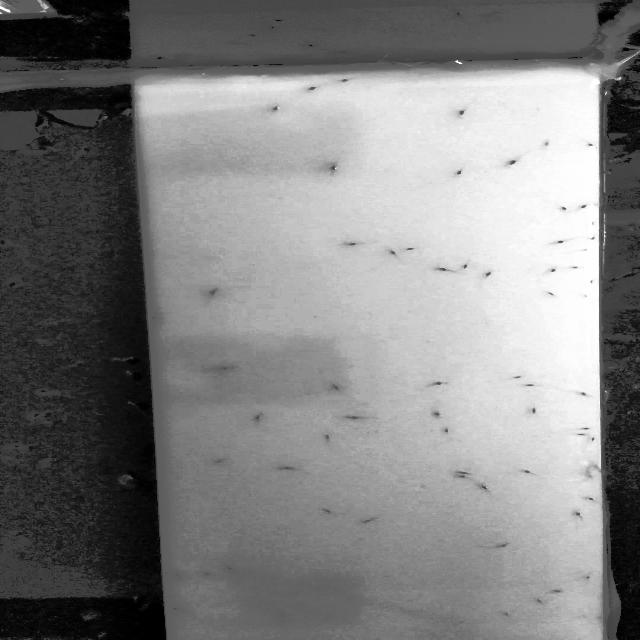shrimp: (505, 147, 536, 167), (531, 133, 559, 150), (446, 162, 474, 177), (361, 512, 395, 524), (330, 75, 374, 84), (546, 236, 576, 248), (204, 364, 248, 372), (538, 287, 566, 299), (337, 414, 377, 422), (338, 240, 376, 248), (445, 105, 472, 116), (451, 258, 475, 270), (528, 596, 548, 610), (432, 264, 460, 274), (323, 161, 343, 175), (576, 492, 606, 501), (416, 380, 446, 389), (539, 264, 558, 278), (566, 508, 587, 520), (569, 389, 597, 398), (479, 267, 500, 279), (444, 467, 473, 475), (316, 506, 339, 516), (545, 585, 565, 596), (280, 465, 304, 474), (574, 243, 595, 253), (516, 467, 541, 475), (571, 203, 593, 212), (488, 542, 516, 549), (384, 249, 403, 259), (499, 612, 522, 620), (205, 288, 228, 296), (318, 434, 338, 443), (450, 475, 480, 481), (580, 220, 602, 228), (582, 137, 598, 148), (161, 566, 173, 580), (500, 374, 528, 380), (148, 307, 160, 321), (402, 245, 425, 252), (246, 413, 262, 423), (555, 203, 571, 213), (566, 432, 592, 438), (328, 382, 341, 394), (168, 604, 185, 613), (221, 562, 236, 572), (583, 276, 596, 287), (566, 262, 586, 269), (171, 568, 184, 578), (432, 411, 445, 421), (479, 483, 493, 492), (572, 427, 593, 433), (526, 405, 540, 414), (516, 383, 540, 388), (441, 428, 454, 437), (580, 574, 594, 582), (200, 572, 218, 578), (308, 86, 323, 93), (265, 107, 291, 111), (587, 436, 601, 442), (278, 614, 288, 622), (210, 460, 222, 465)
